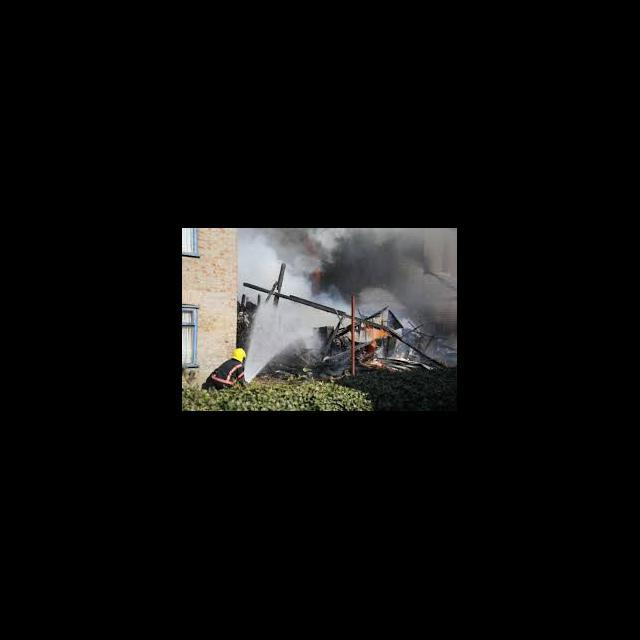Fire: (364, 326, 391, 370), (298, 234, 326, 258), (312, 268, 323, 286)
Smoke: (332, 236, 404, 294), (240, 230, 272, 280), (287, 276, 306, 294)
